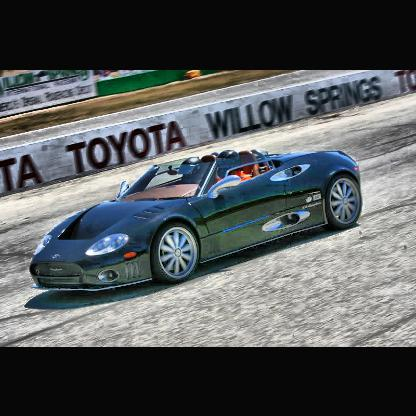Spyker C8 Convertible 2009: (31, 149, 364, 292)
